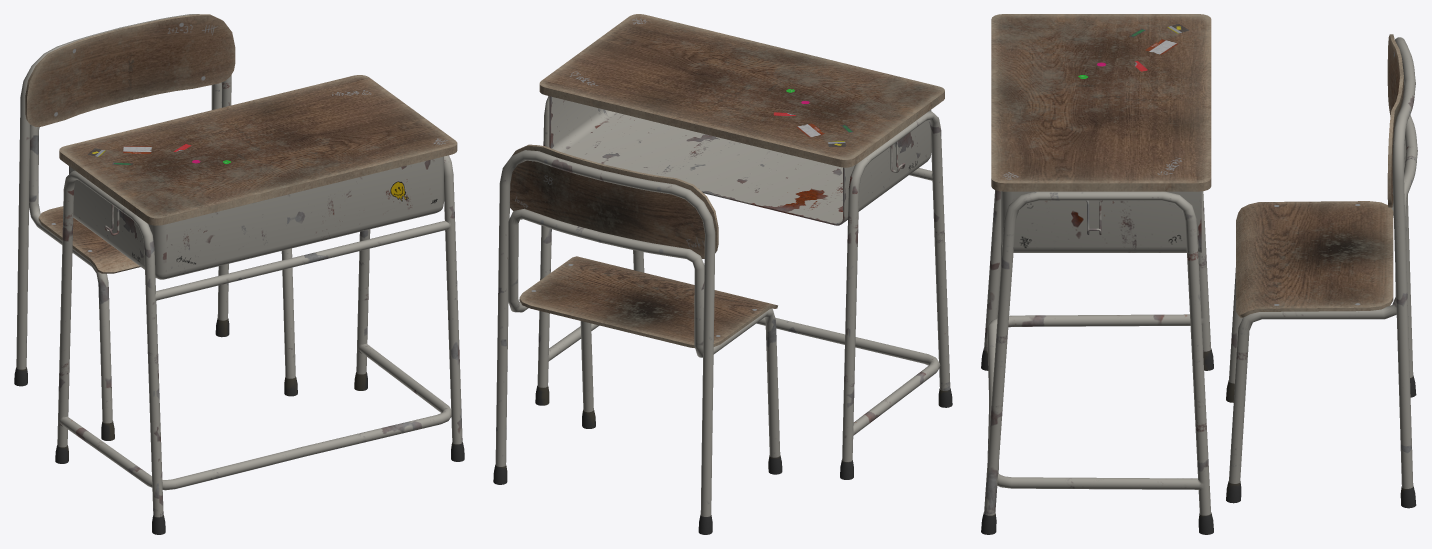
The model's file is chinese_high_school_desk_chair.glb.
The picture shows the model from 3 angles, left to right: view 1: azimuth 30°, elevation 25°; view 2: azimuth 150°, elevation 25°; view 3: azimuth 270°, elevation 25°; orthographic projection. The views are drawn at different scales.
Parts seen in each view (by area): view 1: tabletop_lp; view 2: tabletop_lp; view 3: tabletop_lp.
Part boxes in pixels (x1,y1,x2,y2): tabletop_lp: (14, 14, 464, 534); tabletop_lp: (493, 14, 952, 534); tabletop_lp: (981, 14, 1417, 534).
Bounding box in the file's own units: 0.7624 × 0.7803 × 0.825.
Materials: 1 (1 with a texture image).
